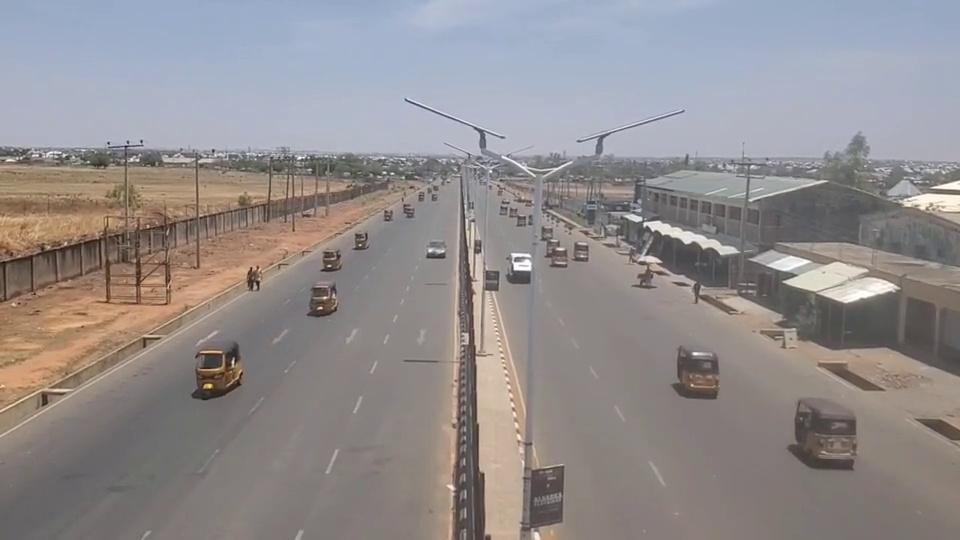bus: (507, 253, 532, 283)
car: (426, 240, 447, 258)
keke: (793, 396, 857, 467), (194, 340, 243, 396), (675, 344, 719, 397), (308, 281, 339, 315), (322, 248, 343, 270), (573, 241, 589, 261), (354, 232, 369, 250)
